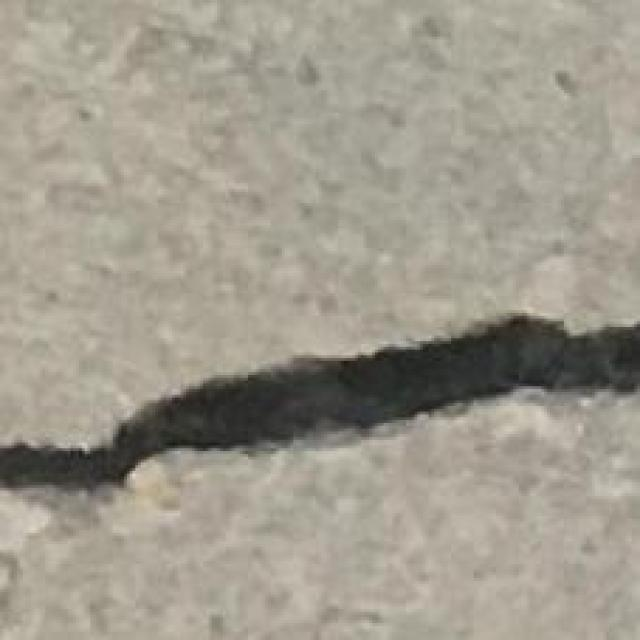diagonal crack: (0, 316, 639, 490)
